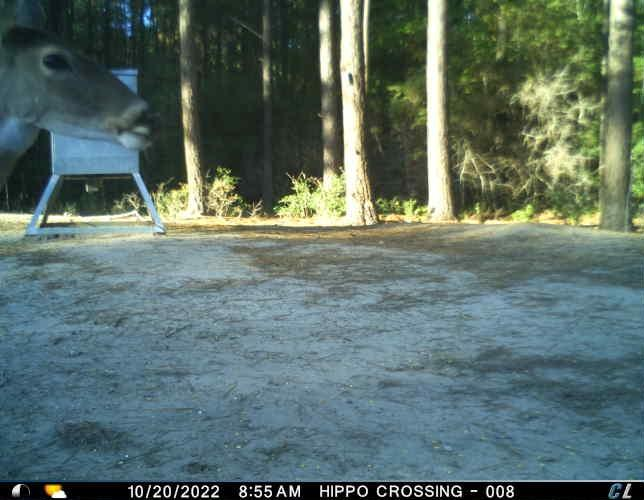Deer: (0, 0, 163, 193)
